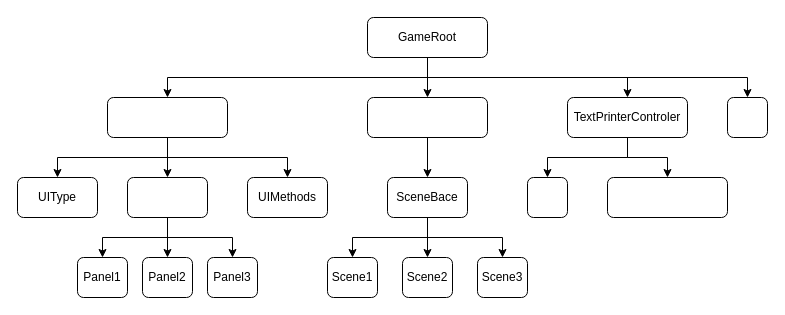
This 785x315 diagram has some shape labels left out. Each missing label, with the box of its shape:
Other: (726, 96, 768, 138)
PanelBace: (126, 176, 208, 218)
SceneControl: (366, 96, 488, 138)
Text: (526, 176, 568, 218)
TypeTextComponent: (606, 176, 728, 218)
UIManager: (106, 96, 228, 138)
